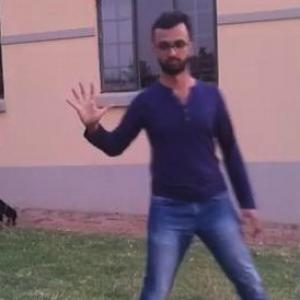follow_hand: (60, 76, 114, 129)
